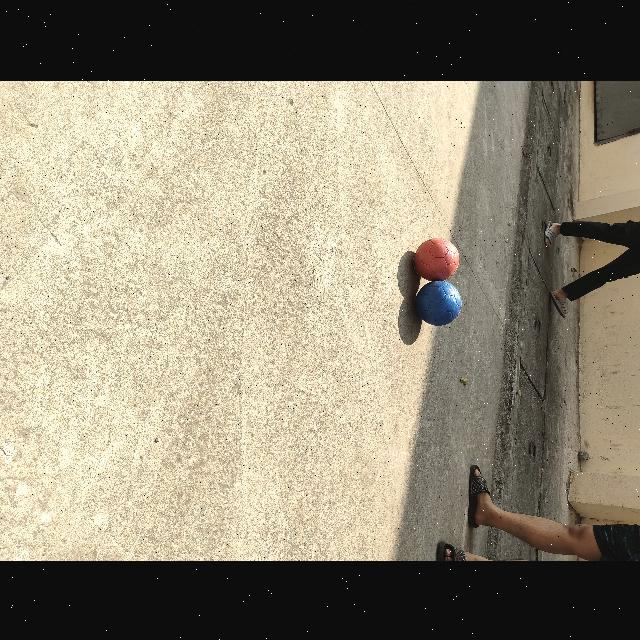B: (415, 280, 461, 325)
R: (414, 237, 459, 280)
